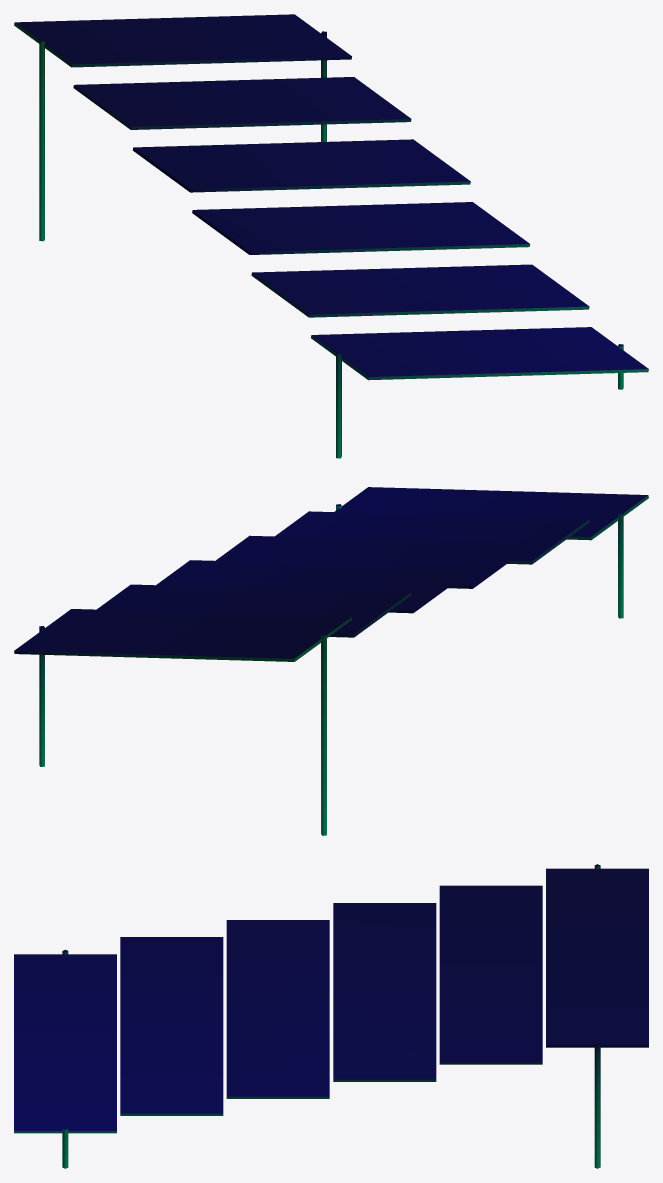
Rendered from camonetting_damaged.glb.
3 views of the same model, one above another, from view 1: azimuth 30°, elevation 25°; view 2: azimuth 150°, elevation 25°; view 3: azimuth 270°, elevation 25° (orthographic). The views are drawn at different scales.
Parts seen in each view (by area): view 1: lod0; view 2: lod0; view 3: lod0.
Part boxes in pixels (left/top/right/bottom): lod0: left=14, top=14, right=648, bottom=458; lod0: left=14, top=487, right=648, bottom=835; lod0: left=14, top=864, right=648, bottom=1168.
Size of what is drawn, in the model's own units: 6.94 by 4.6 by 14.8.
